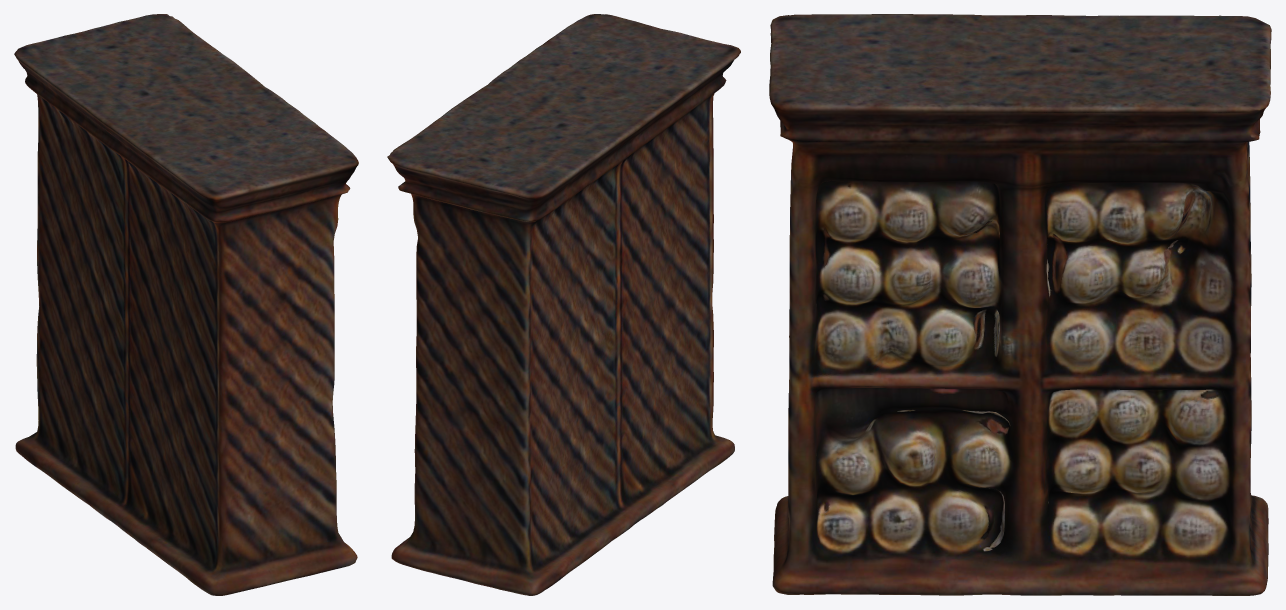
Rendered from Scroll cupboard 1.fbx.
3 renders of one model, left to right at view 1: azimuth 30°, elevation 25°; view 2: azimuth 150°, elevation 25°; view 3: azimuth 270°, elevation 25°, orthographic. The views are drawn at different scales.
Visible parts, largest first — view 1: mesh; view 2: mesh; view 3: mesh.
Part boxes in pixels (x1,y1,x2,y2): mesh: (14,14,358,595); mesh: (387,14,740,595); mesh: (769,14,1271,595).
Size of the model in its own units: 41.65 by 99.9 by 92.22.
